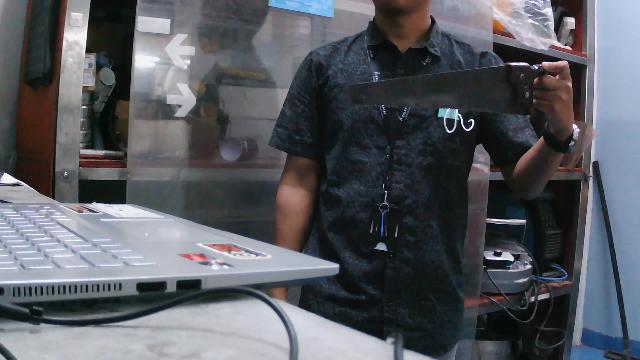gergaji_kayu: (341, 58, 579, 124)
